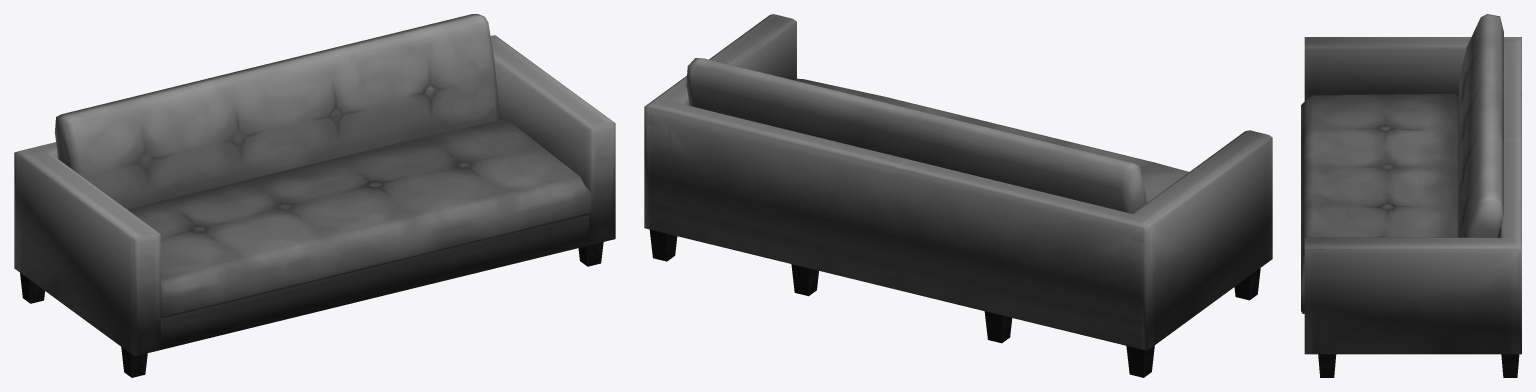
File: Couch_3.fbx
The picture shows the model from 3 angles, left to right: view 1: azimuth 30°, elevation 25°; view 2: azimuth 150°, elevation 25°; view 3: azimuth 270°, elevation 25°; orthographic projection. The views are drawn at different scales.
Parts seen in each view (by area): view 1: Plane.000; view 2: Plane.000; view 3: Plane.000.
Part boxes in pixels (<box>): Plane.000: <box>14,14,615,377</box>; Plane.000: <box>644,14,1272,377</box>; Plane.000: <box>1301,14,1521,377</box>.
Size of the model in its own units: 654 by 242 by 288.
